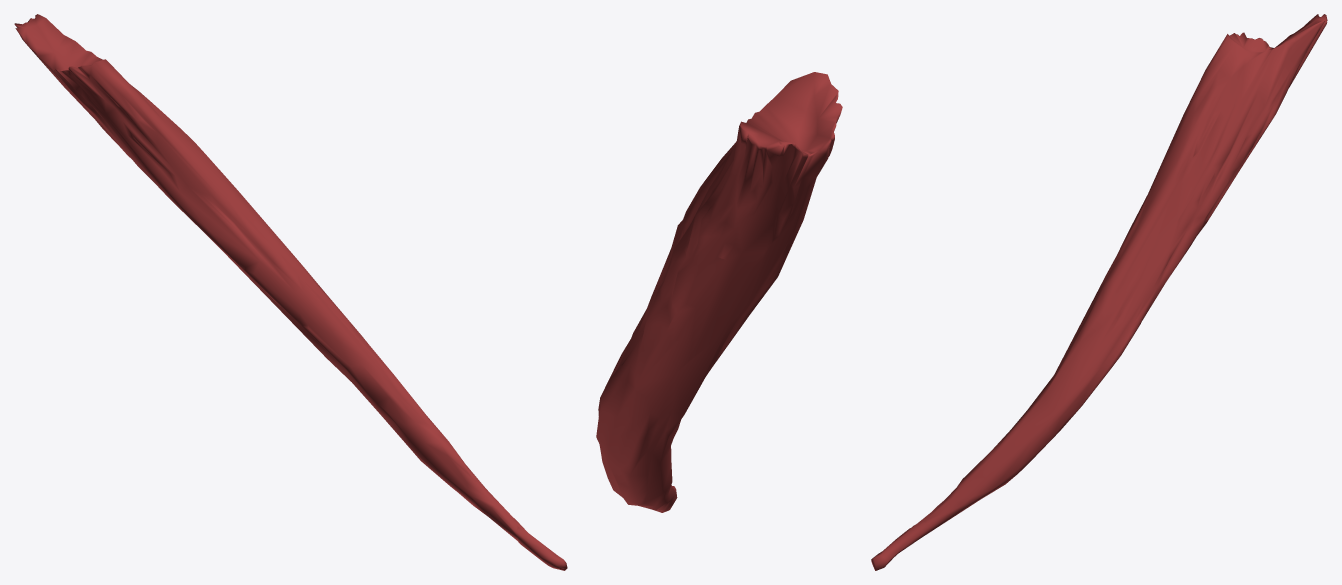
The model's file is posterior-belly-of-digastric-muscle-r.glb.
3 renders of one model, left to right at view 1: azimuth 30°, elevation 25°; view 2: azimuth 150°, elevation 25°; view 3: azimuth 270°, elevation 25°, orthographic. The views are drawn at different scales.
Visible parts, largest first — view 1: Posterior belly of digastric muscle.r; view 2: Posterior belly of digastric muscle.r; view 3: Posterior belly of digastric muscle.r.
Part boxes in pixels (x1=…): Posterior belly of digastric muscle.r: x1=14, y1=14, x2=567, y2=570; Posterior belly of digastric muscle.r: x1=596, y1=72, x2=842, y2=512; Posterior belly of digastric muscle.r: x1=871, y1=14, x2=1327, y2=570.
Size of the model in its own units: 0.0469 by 0.0641 by 0.0631.
